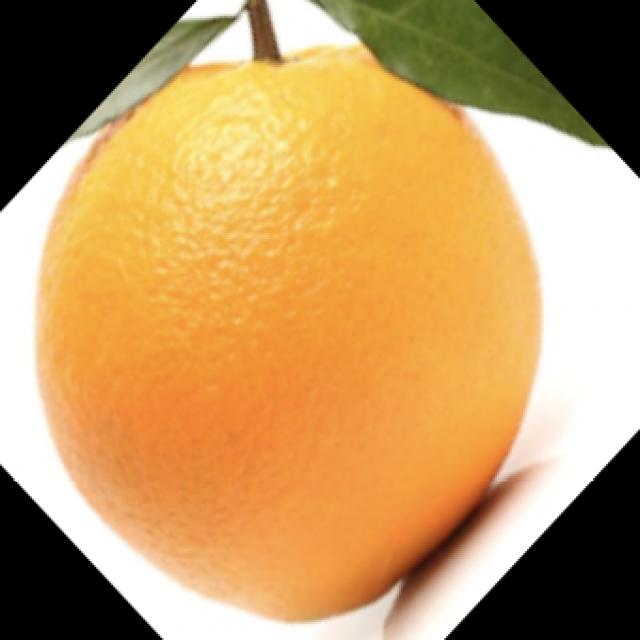fresh: (27, 0, 556, 630)
